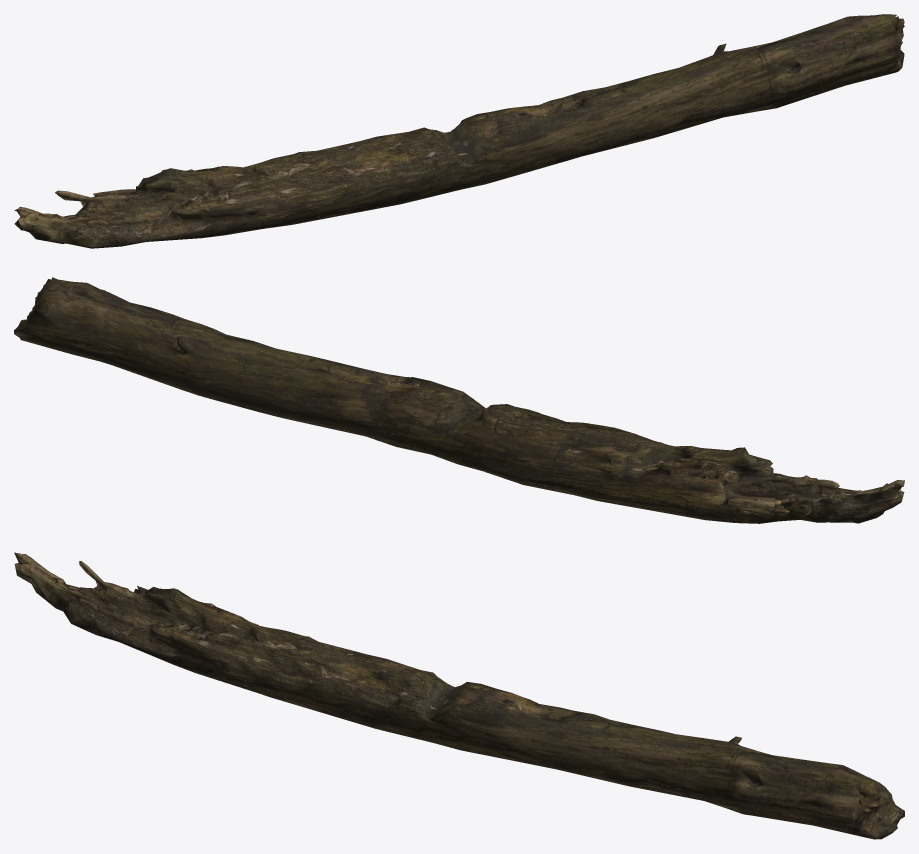
File: dead_tree_trunk.glb
3 renders of one model, top to bottom at view 1: azimuth 30°, elevation 25°; view 2: azimuth 150°, elevation 25°; view 3: azimuth 330°, elevation 25°, orthographic.
Parts seen in each view (by area): view 1: dead_tree_trunk; view 2: dead_tree_trunk; view 3: dead_tree_trunk.
Part boxes in pixels (x1,y1,x2,y2): dead_tree_trunk: [14, 14, 904, 248]; dead_tree_trunk: [14, 277, 904, 523]; dead_tree_trunk: [14, 552, 904, 839].
Bounding box in the file's own units: 3.05 × 0.2869 × 0.2763.
1 material, 1 textured.
